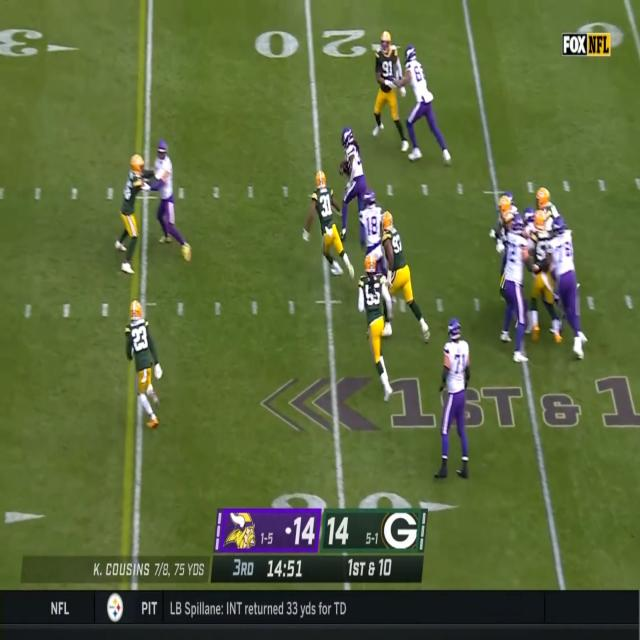football: (340, 160, 349, 174)
players: (379, 212, 432, 342), (434, 318, 472, 479), (401, 49, 452, 167), (550, 217, 588, 361), (304, 171, 354, 277), (358, 255, 394, 402), (125, 300, 163, 436), (524, 210, 562, 342), (499, 214, 531, 364), (359, 189, 395, 322), (152, 141, 191, 263), (374, 32, 411, 151), (115, 155, 152, 274), (338, 127, 371, 241), (490, 195, 522, 285), (536, 189, 564, 226)
